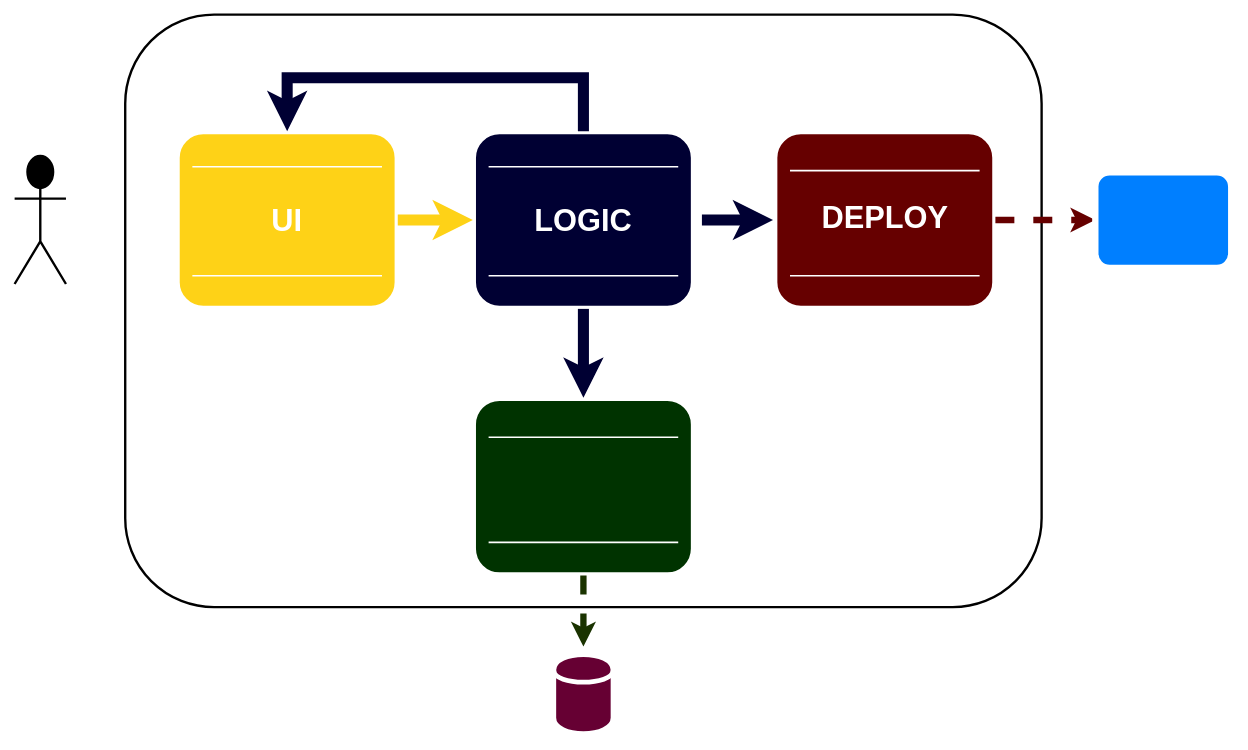
This 1248x750 diagram has some shape labels left out. Each missing label, with the centre of its shape:
DATA STORAGE: the point at 583,486
SUNAT: the point at 1163,220
